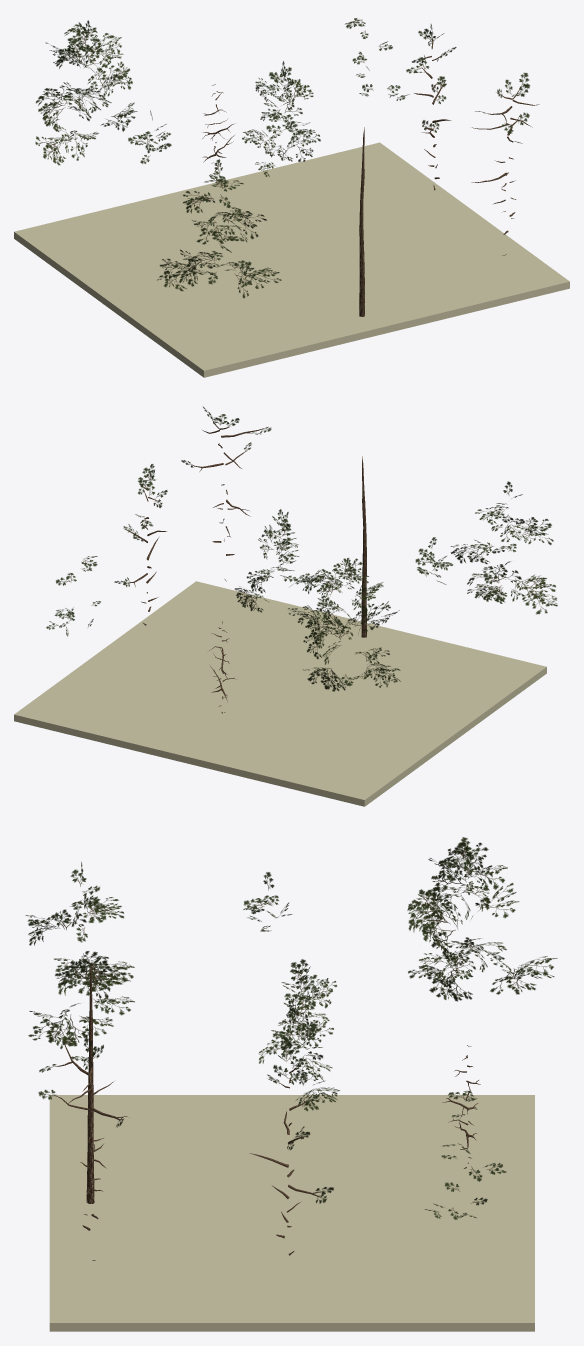
Rendered from agac_sari_cam.glb.
The picture shows the model from 3 angles, top to bottom: view 1: azimuth 30°, elevation 25°; view 2: azimuth 150°, elevation 25°; view 3: azimuth 270°, elevation 25°; orthographic projection. The views are drawn at different scales.
Visible parts, largest first — view 1: 1_Foliage_mat2_Material #28_0; view 2: 1_Foliage_mat2_Material #28_0; view 3: 1_Foliage_mat2_Material #28_0.
Part boxes in pixels (x1,y1,x2,y2): 1_Foliage_mat2_Material #28_0: (14, 18, 569, 377); 1_Foliage_mat2_Material #28_0: (14, 406, 557, 806); 1_Foliage_mat2_Material #28_0: (25, 837, 557, 1331).
Size of the model in its own units: 20.34 by 11 by 19.03.
4 materials, 3 textured.
